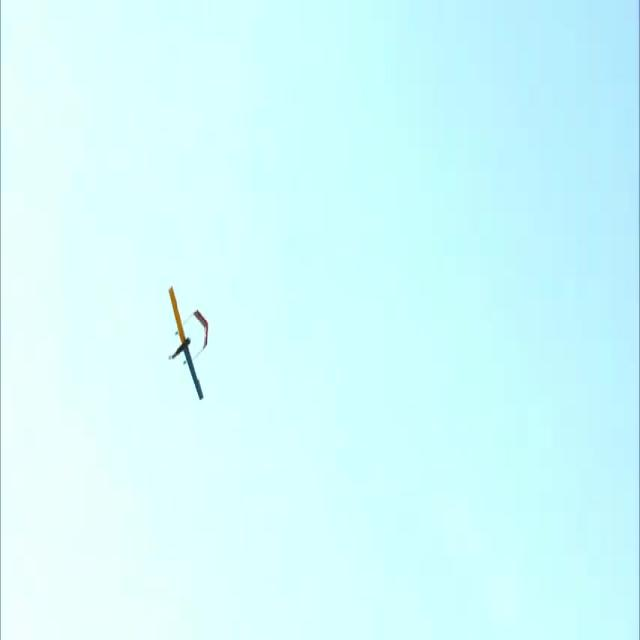iha: (167, 317, 209, 368)
